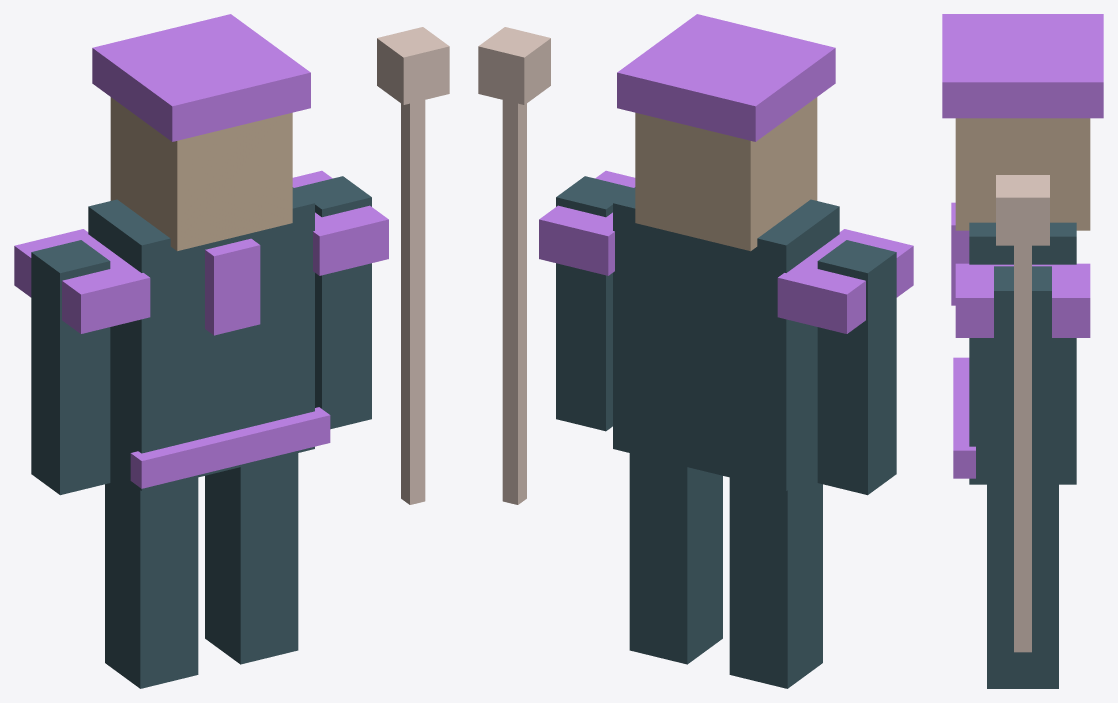
Rendered from 20_ossa_chromabell_operator_of.glb.
3 views of the same model, side by side, from view 1: azimuth 30°, elevation 25°; view 2: azimuth 150°, elevation 25°; view 3: azimuth 270°, elevation 25° (orthographic).
Visible parts, largest first — view 1: Ossa Chromabell, Operator of; view 2: Ossa Chromabell, Operator of; view 3: Ossa Chromabell, Operator of.
Part boxes in pixels (box(x1,y1,x2,y2)): Ossa Chromabell, Operator of: box(14, 14, 449, 688); Ossa Chromabell, Operator of: box(478, 14, 913, 688); Ossa Chromabell, Operator of: box(942, 14, 1103, 688).
Bounding box in the file's own units: 1.02 × 1.49 × 0.363.
